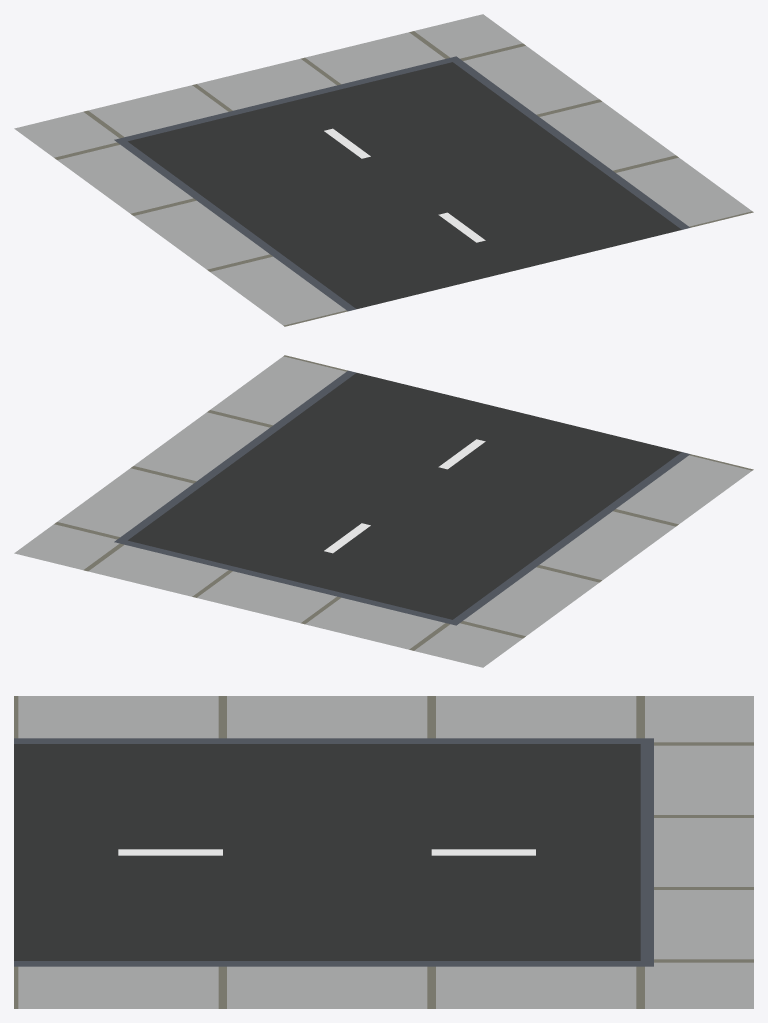
Rendered from road end.FBX.
3 views of the same model, one above another, from view 1: azimuth 30°, elevation 25°; view 2: azimuth 150°, elevation 25°; view 3: azimuth 270°, elevation 25° (orthographic). The views are drawn at different scales.
Parts seen in each view (by area): view 1: road end; view 2: road end; view 3: road end.
Boxes of the visible parts, x1=… form: road end: x1=14, y1=14, x2=753, y2=326; road end: x1=14, y1=355, x2=753, y2=667; road end: x1=14, y1=696, x2=753, y2=1008.
Bounding box in the file's own units: 20 × 8.74e-07 × 20.
